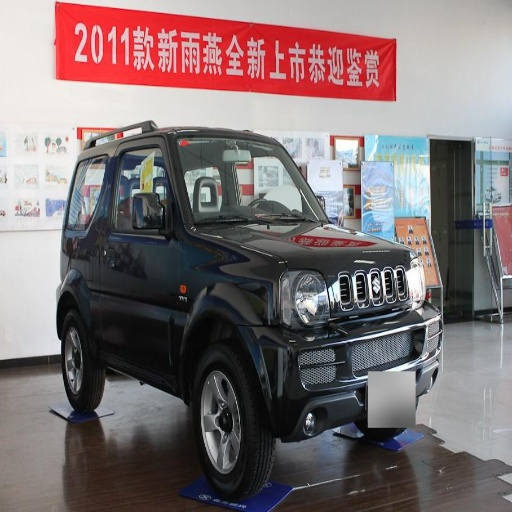front_bumper: (247, 259, 441, 434)
front_right_door: (103, 143, 180, 368)
front_right_light: (270, 268, 330, 329)
